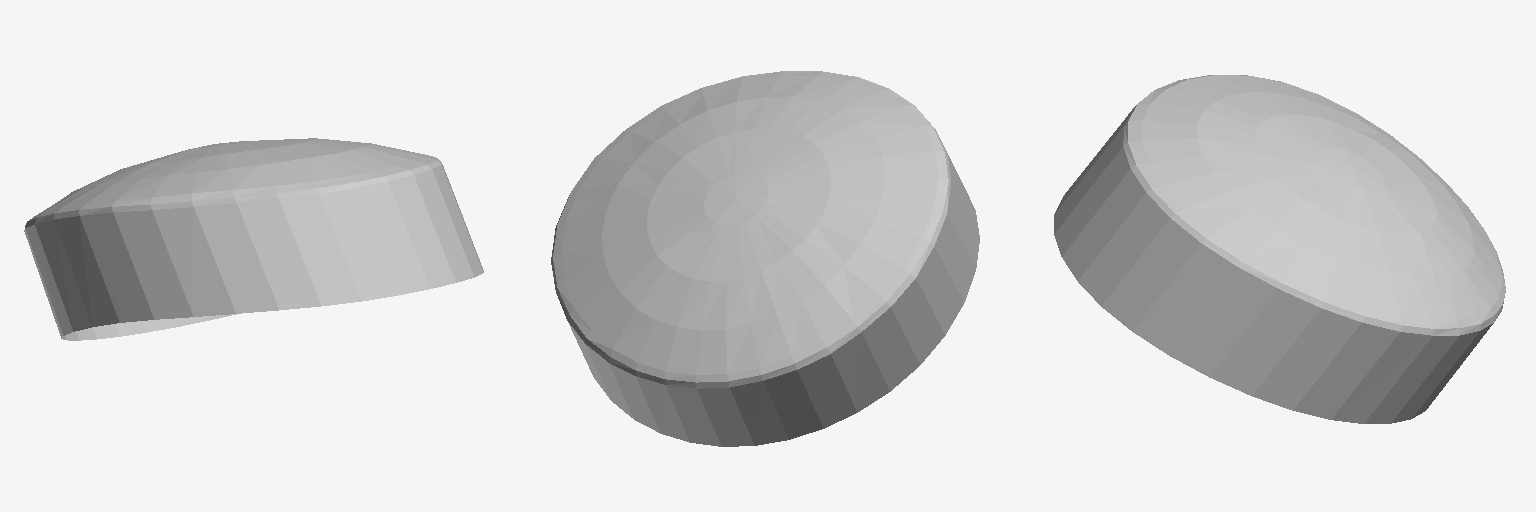
Rendered from R_button_B.obj.
3 renders of one model, left to right at view 1: azimuth 30°, elevation 25°; view 2: azimuth 150°, elevation 25°; view 3: azimuth 270°, elevation 25°, orthographic.
Parts seen in each view (by area): view 1: R_button_B Ctrl_R; view 2: R_button_B Ctrl_R; view 3: R_button_B Ctrl_R.
Boxes of the visible parts, x1,y1,x2,y2 form: R_button_B Ctrl_R: [24, 138, 483, 340]; R_button_B Ctrl_R: [551, 71, 979, 446]; R_button_B Ctrl_R: [1054, 75, 1505, 423].
Bounding box in the file's own units: 0.0106 × 0.0071 × 0.0112.